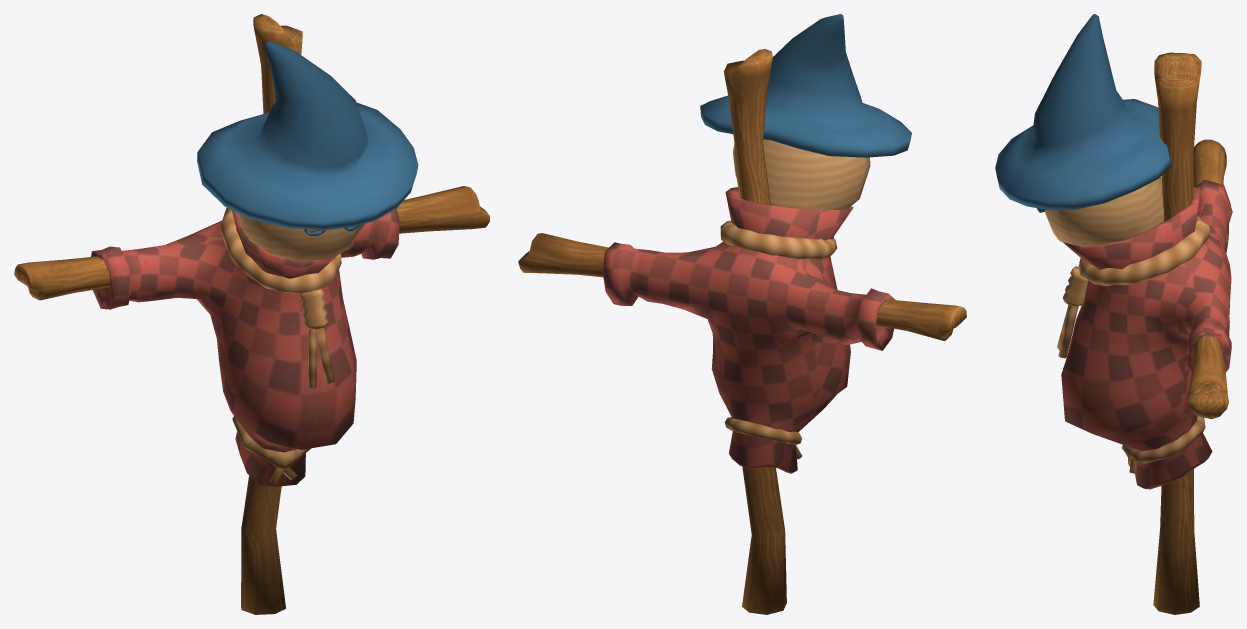
The model's file is SM_Stylized_Scarecrow.glb.
The picture shows the model from 3 angles, left to right: view 1: azimuth 30°, elevation 25°; view 2: azimuth 150°, elevation 25°; view 3: azimuth 270°, elevation 25°; orthographic projection. The views are drawn at different scales.
Visible parts, largest first — view 1: SM_Stylized_Scarecrow; view 2: SM_Stylized_Scarecrow; view 3: SM_Stylized_Scarecrow.
Part boxes in pixels (bbox=[...]): SM_Stylized_Scarecrow: bbox=[14, 14, 489, 614]; SM_Stylized_Scarecrow: bbox=[518, 14, 966, 614]; SM_Stylized_Scarecrow: bbox=[995, 14, 1232, 614].
Bounding box in the file's own units: 1.65 × 2.08 × 0.7801.
Materials: 1 (1 with a texture image).
